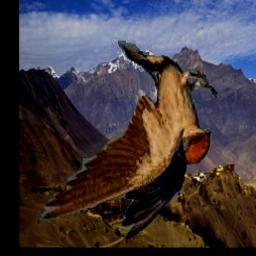Swallow: (36, 26, 218, 240)
